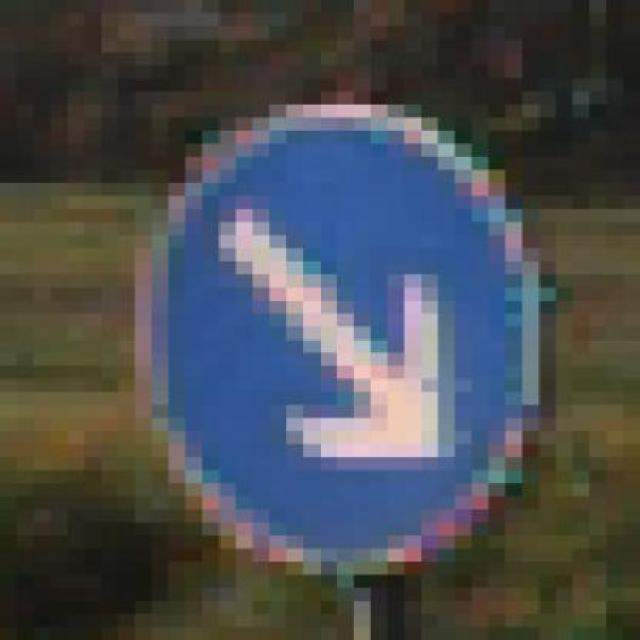Keep-Right: (84, 65, 573, 588)
